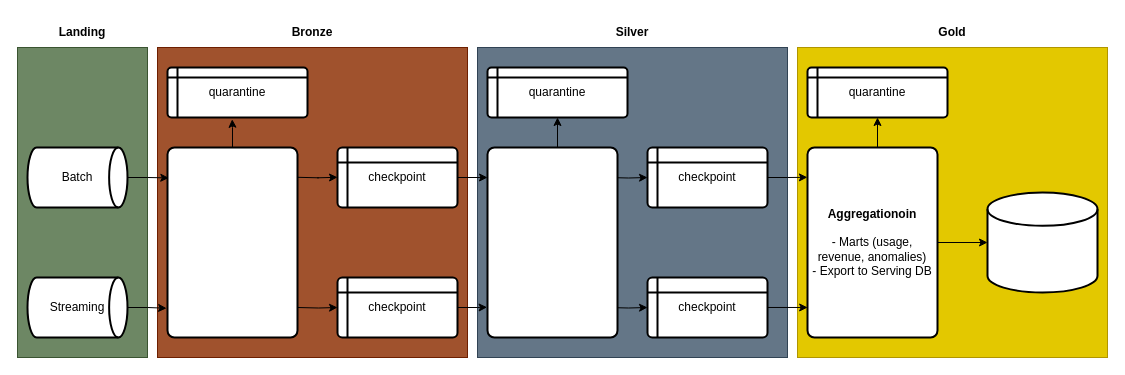
This 1125x375 diagram has some shape labels left out. The shapes that lost their labels are listed below. From the top down, each one's centre as x and y in pixels, then its label:
At (x=232, y=242): "Ingest & Data Quality - Data quality rules - Metadata enrichment - Deduplication".
At (x=552, y=242): "Transform/Join - Normalization - Enrichment with master data - Anomaly detection".
At (x=1042, y=242): "Astra".
